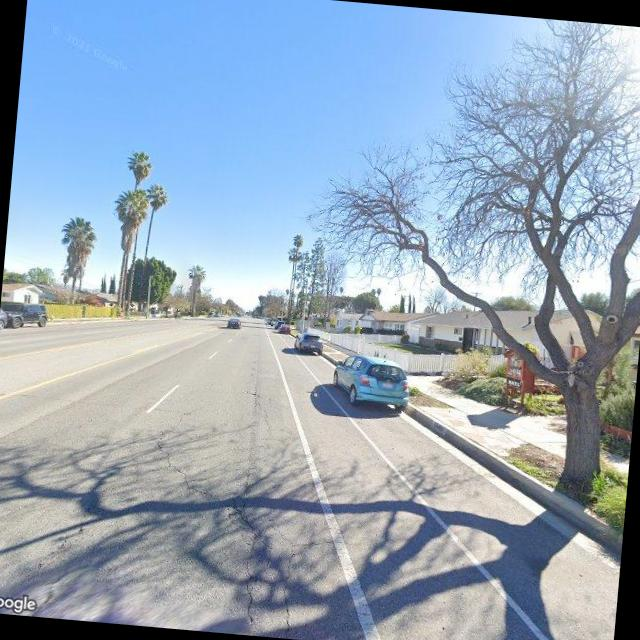crack: (123, 399, 344, 636)
